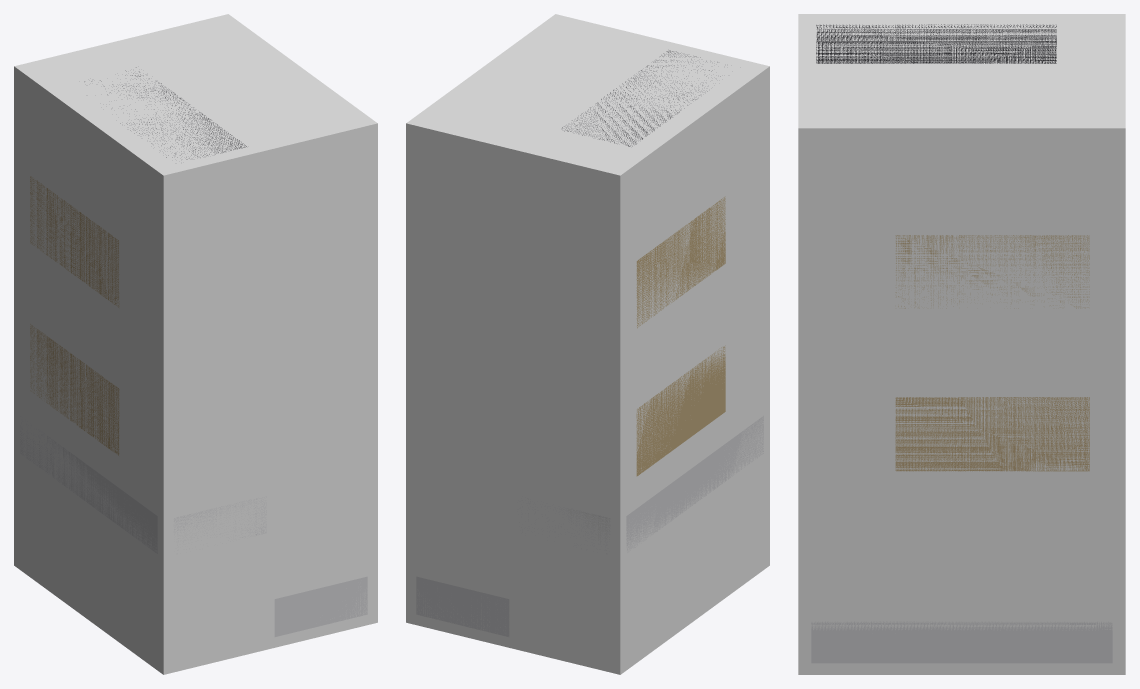
File: sniper_mag_quick.glb
The picture shows the model from 3 angles, left to right: view 1: azimuth 30°, elevation 25°; view 2: azimuth 150°, elevation 25°; view 3: azimuth 270°, elevation 25°; orthographic projection. The views are drawn at different scales.
Visible parts, largest first — view 1: COL_part, mag; view 2: COL_part, mag; view 3: COL_part, mag.
Boxes of the visible parts, x1=… form: COL_part: x1=14, y1=14, x2=377, y2=674; mag: x1=20, y1=67, x2=367, y2=636; COL_part: x1=406, y1=14, x2=769, y2=674; mag: x1=416, y1=50, x2=763, y2=636; COL_part: x1=798, y1=14, x2=1125, y2=674; mag: x1=811, y1=24, x2=1112, y2=663.
Bounding box in the file's own units: 0.053 × 0.118 × 0.064.
